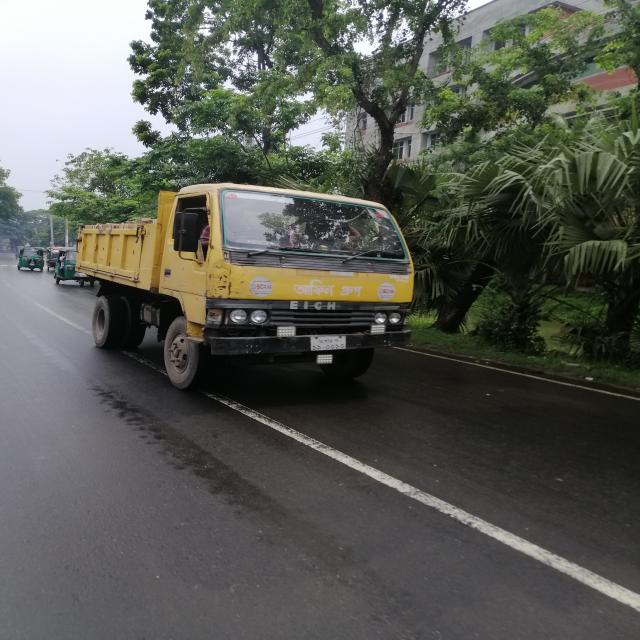Pick-up-van: (57, 178, 431, 394)
